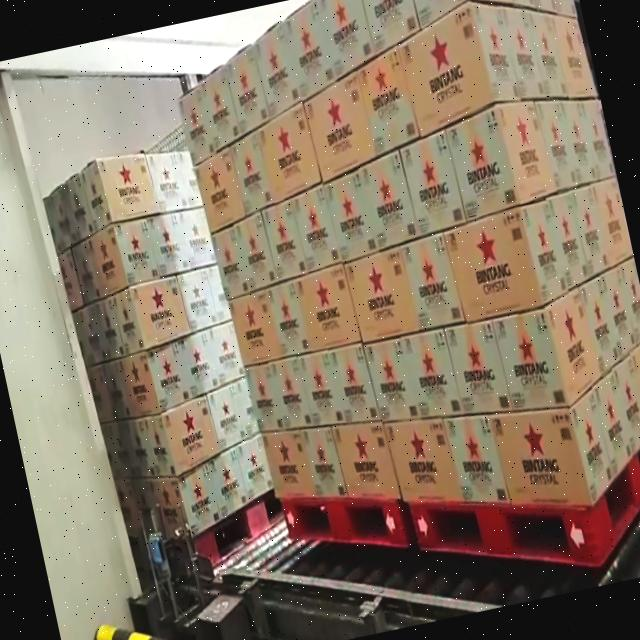pallet: (288, 0, 640, 610), (154, 1, 420, 586), (28, 124, 296, 598)
